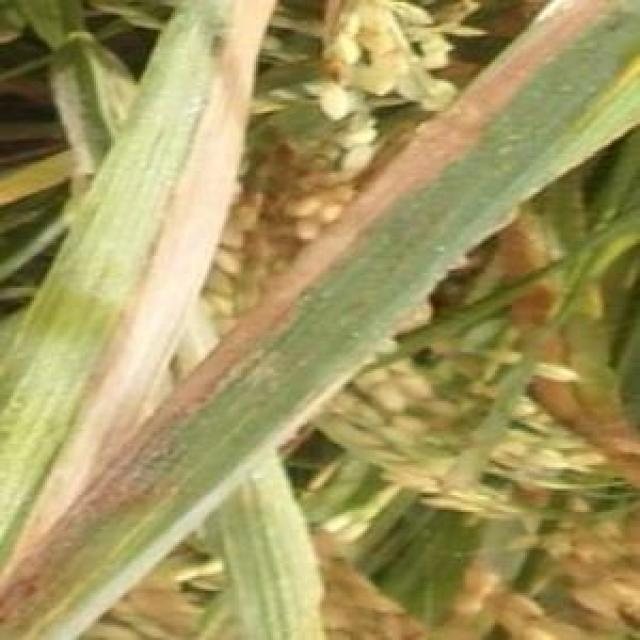Bacterial_Blight: (0, 0, 619, 640), (0, 0, 282, 640)
